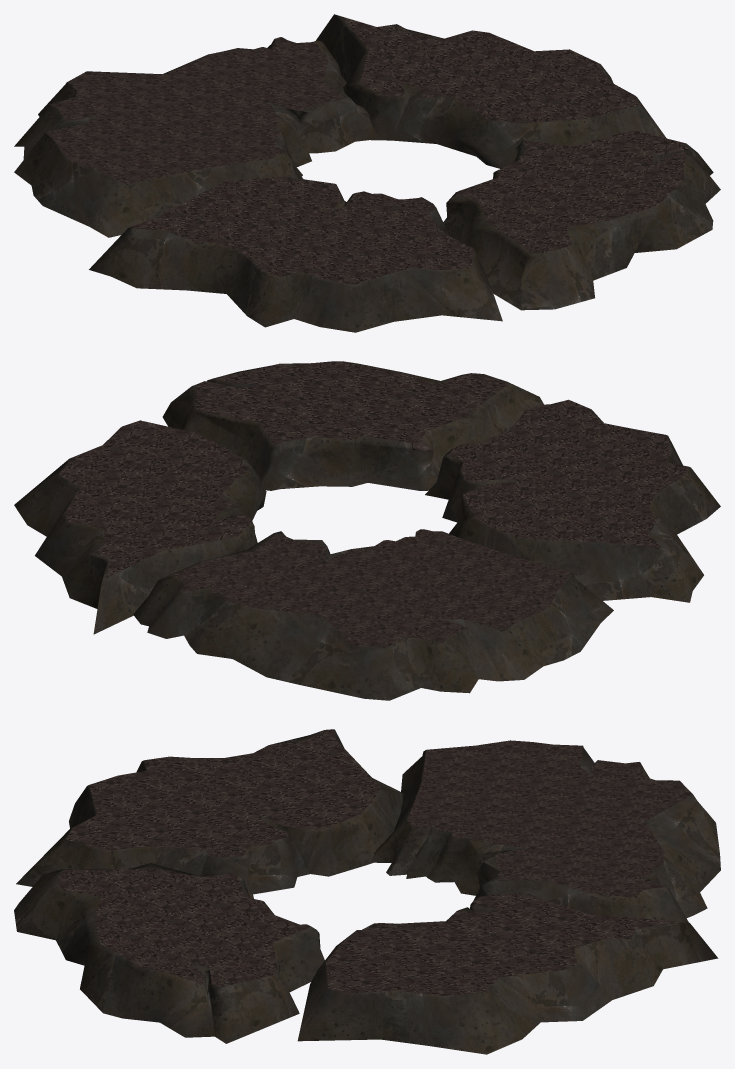
The model's file is SM_Ground_Islands.fbx.
The picture shows the model from 3 angles, top to bottom: view 1: azimuth 30°, elevation 25°; view 2: azimuth 150°, elevation 25°; view 3: azimuth 270°, elevation 25°; orthographic projection. The views are drawn at different scales.
Parts seen in each view (by area): view 1: SM_Ground_Islands; view 2: SM_Ground_Islands; view 3: SM_Ground_Islands.
Boxes of the visible parts, <box> form: SM_Ground_Islands: <box>14,14,720,332</box>; SM_Ground_Islands: <box>14,361,720,700</box>; SM_Ground_Islands: <box>14,729,720,1054</box>.
Size of the model in its own units: 47.45 by 2.98 by 46.71.
Materials: 2 (2 with a texture image).
